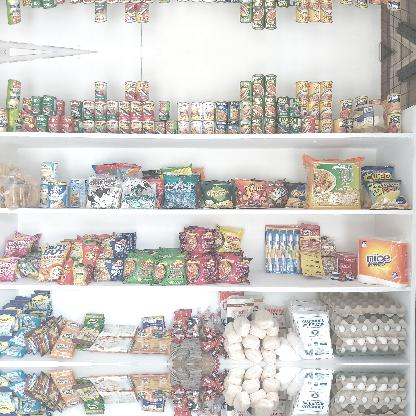Lady-s-Choice: (351, 104, 385, 132)
